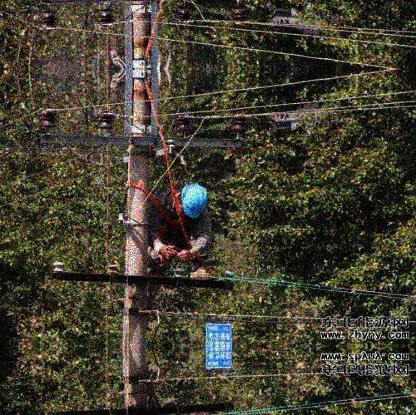helmet: (171, 181, 209, 221)
